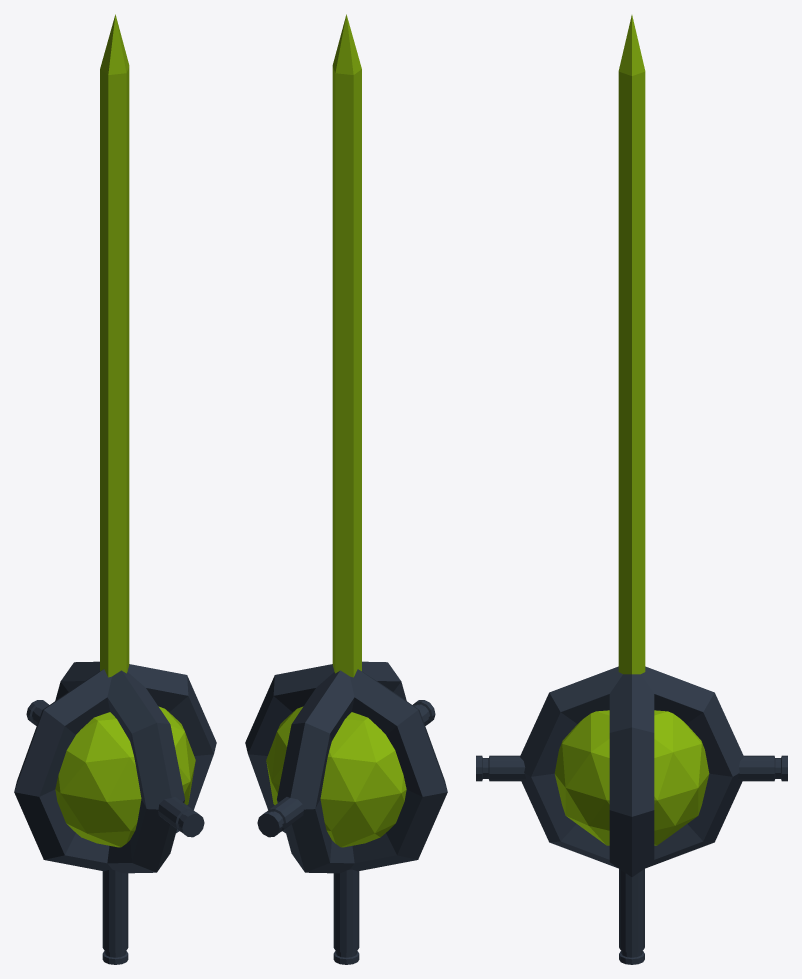
Rendered from ESPADAVERDE.obj.
3 renders of one model, left to right at view 1: azimuth 30°, elevation 25°; view 2: azimuth 150°, elevation 25°; view 3: azimuth 270°, elevation 25°, orthographic.
Visible parts, largest first — view 1: Icosphere, Torus, Torus.001, Cylinder, Cylinder.001; view 2: Icosphere, Torus, Torus.001, Cylinder, Cylinder.001; view 3: Icosphere, Torus.001, Torus, Cylinder.001, Cylinder.
Boxes of the visible parts, x1,y1,x2,y2 form: Icosphere: (55, 14, 195, 847); Torus: (14, 664, 216, 871); Torus.001: (55, 661, 184, 873); Cylinder: (102, 869, 128, 964); Cylinder.001: (26, 700, 204, 837); Icosphere: (266, 14, 406, 847); Torus: (245, 664, 447, 871); Torus.001: (277, 661, 406, 873); Cylinder: (333, 869, 359, 964); Cylinder.001: (257, 700, 435, 837); Icosphere: (554, 15, 709, 845); Torus.001: (520, 666, 743, 868); Torus: (609, 674, 654, 876); Cylinder.001: (476, 755, 787, 781); Cylinder: (619, 869, 644, 964).
Size of the model in its own units: 0.7127 by 3.18 by 0.9492.
